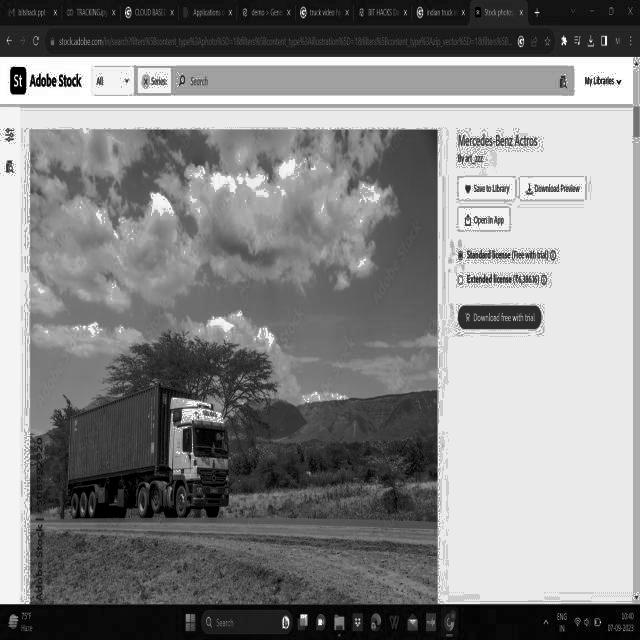HCV: (59, 347, 248, 533)
